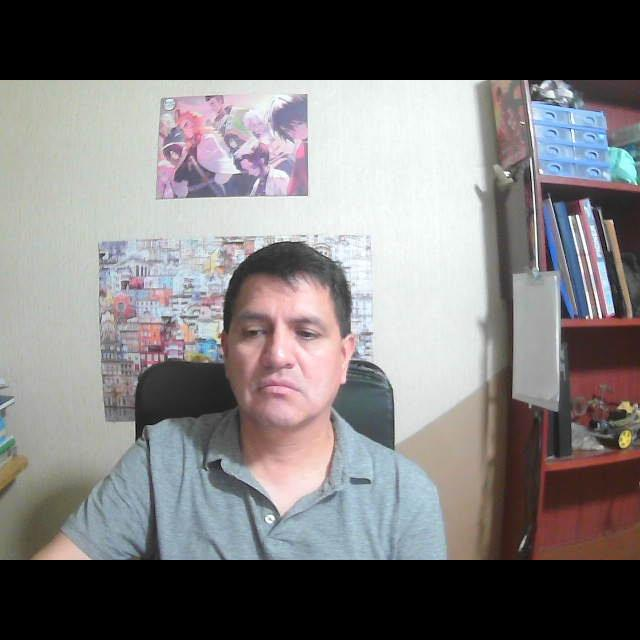cesar: (212, 228, 370, 452)
